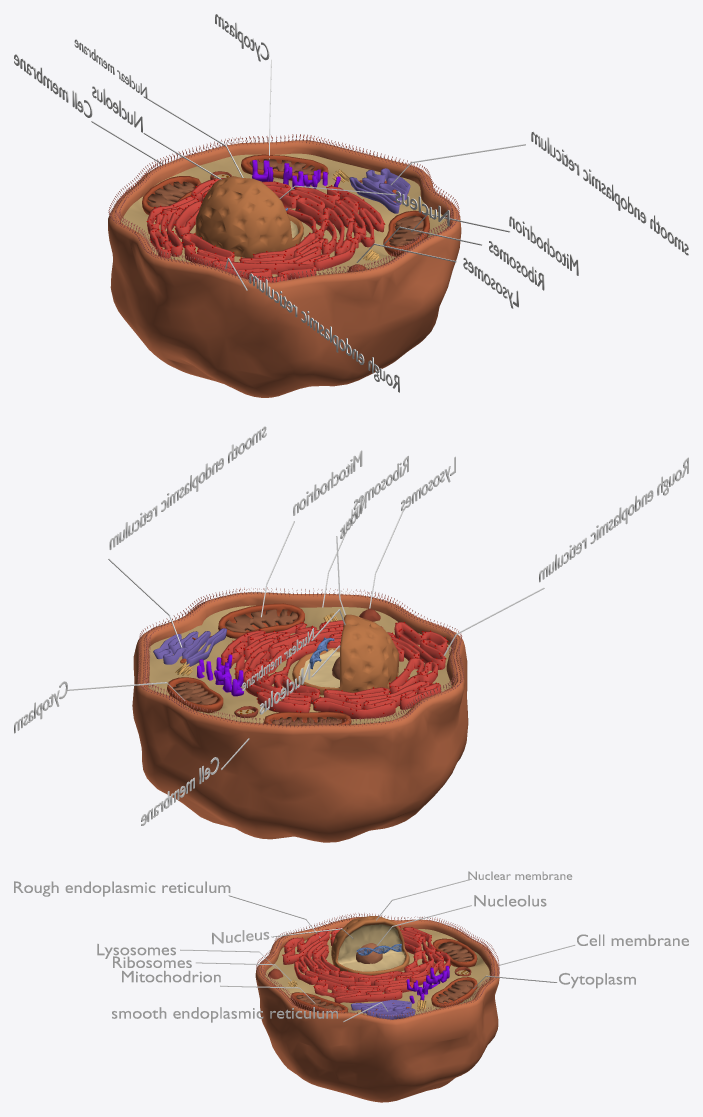
Rendered from AnimalCell.fbx.
3 renders of one model, top to bottom at view 1: azimuth 30°, elevation 25°; view 2: azimuth 150°, elevation 25°; view 3: azimuth 270°, elevation 25°, orthographic. The views are drawn at different scales.
Parts seen in each view (by area): view 1: MITOH, Text.006, Text.009, Text.002, Text.005; view 2: MITOH, Text.006, Text.009, Text.002, Text.005; view 3: MITOH, Text.009, Text.006, Text.002, Text.005, Text.001, Text.003, Text.007, Text.004, Text.
Boxes of the visible parts, bbox=[...] form: MITOH: bbox=[108, 134, 461, 397]; Text.006: bbox=[531, 131, 688, 255]; Text.009: bbox=[249, 273, 399, 392]; Text.002: bbox=[14, 54, 92, 117]; Text.005: bbox=[509, 216, 578, 275]; MITOH: bbox=[132, 587, 468, 842]; Text.006: bbox=[109, 426, 266, 549]; Text.009: bbox=[539, 457, 688, 582]; Text.002: bbox=[141, 757, 219, 825]; Text.005: bbox=[293, 450, 362, 515]; MITOH: bbox=[255, 913, 499, 1102]; Text.009: bbox=[14, 881, 230, 896]; Text.006: bbox=[112, 1007, 337, 1022]; Text.002: bbox=[577, 934, 688, 945]; Text.005: bbox=[122, 970, 220, 982]; Text.001: bbox=[468, 871, 572, 879]; Text.003: bbox=[559, 972, 635, 988]; Text.007: bbox=[113, 956, 191, 967]; Text.004: bbox=[97, 943, 175, 958]; Text: bbox=[474, 895, 546, 906].
Bounding box in the file's own units: 232 × 151 × 510.
